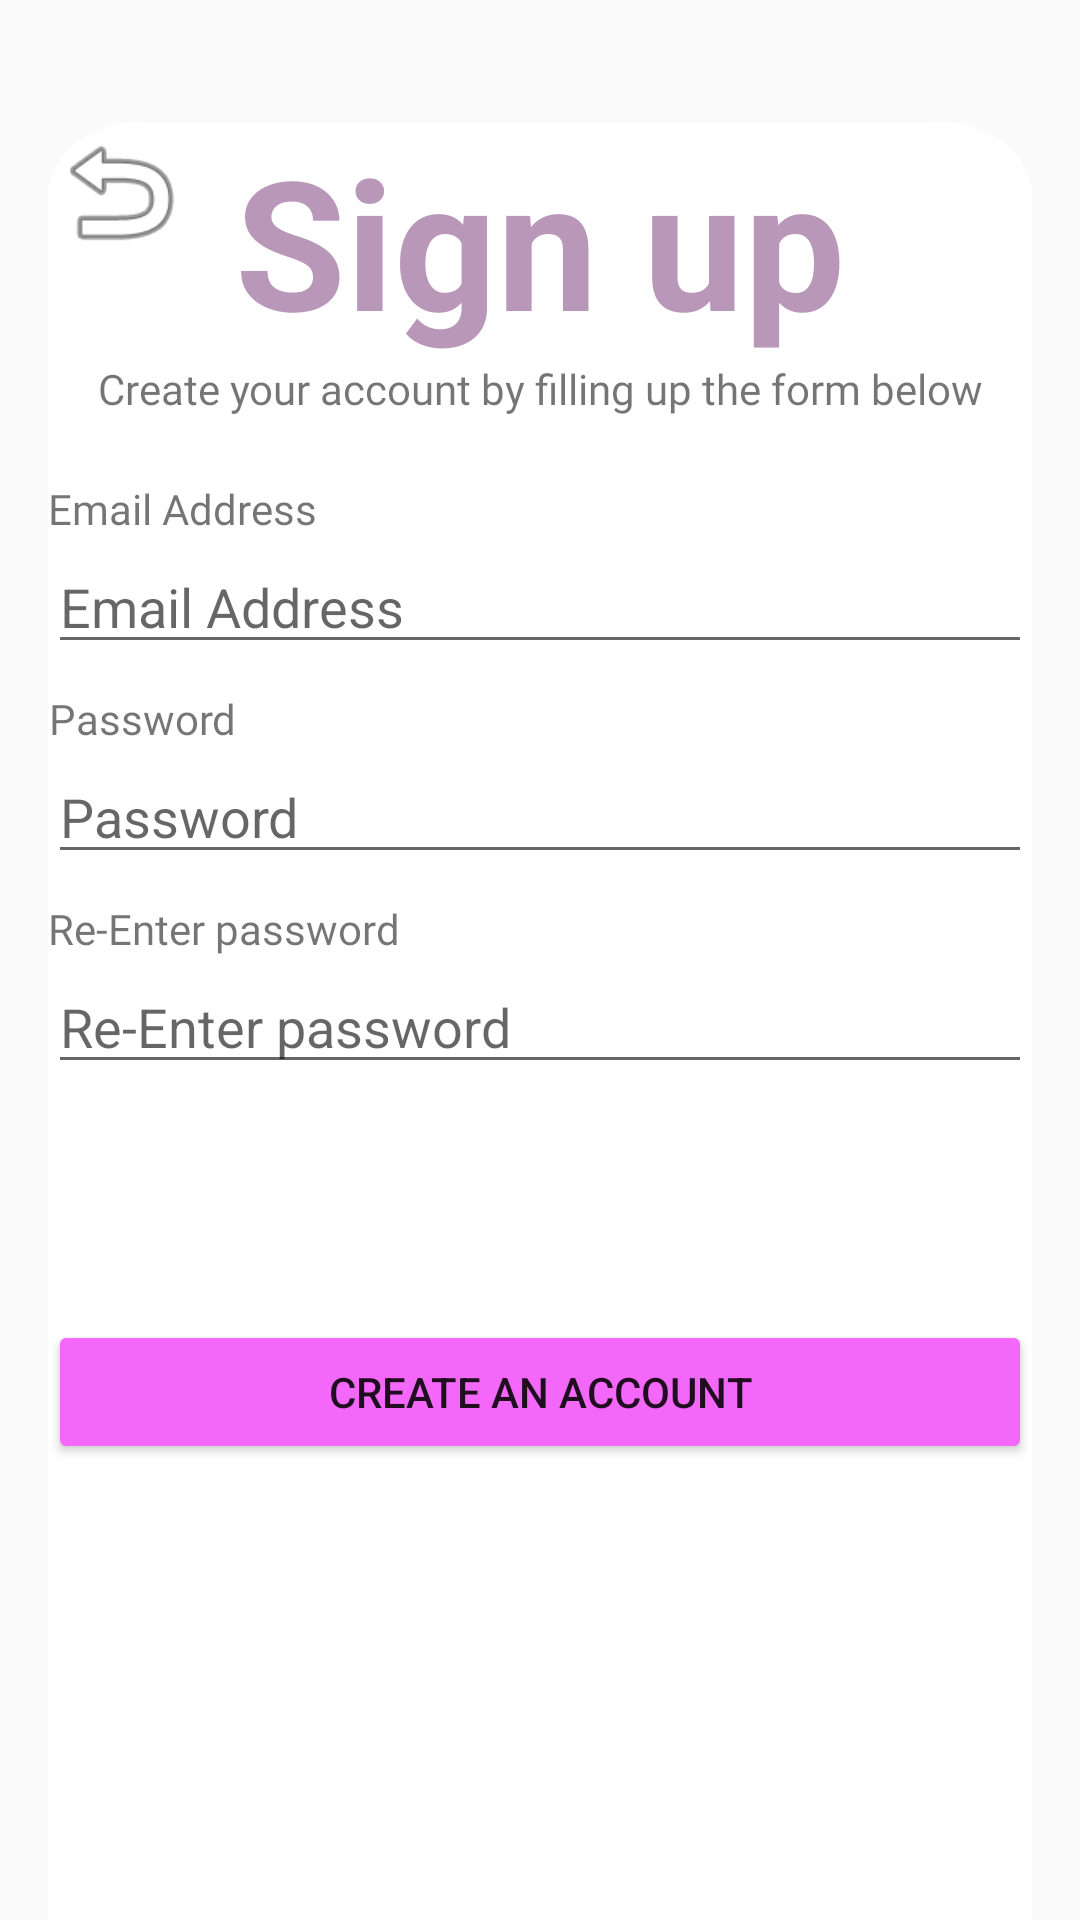

Where to tap for icons on this 1080×1920 app screen, as (x,y):
revert: (122,193)
